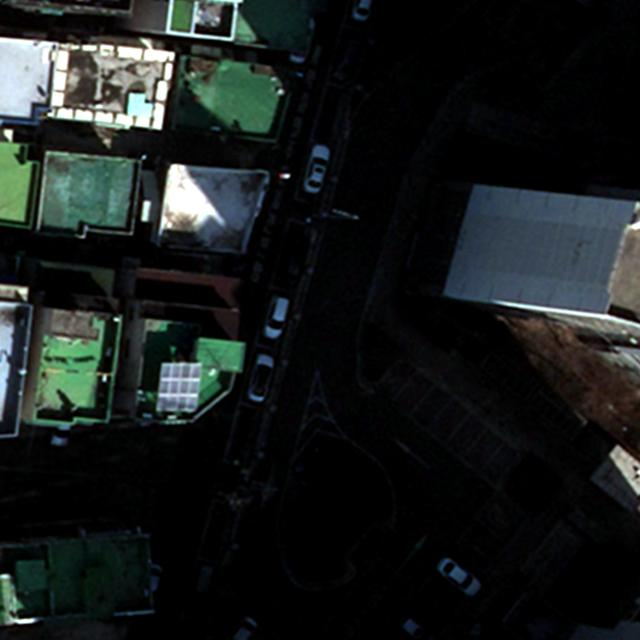panel: (152, 357, 204, 415)
